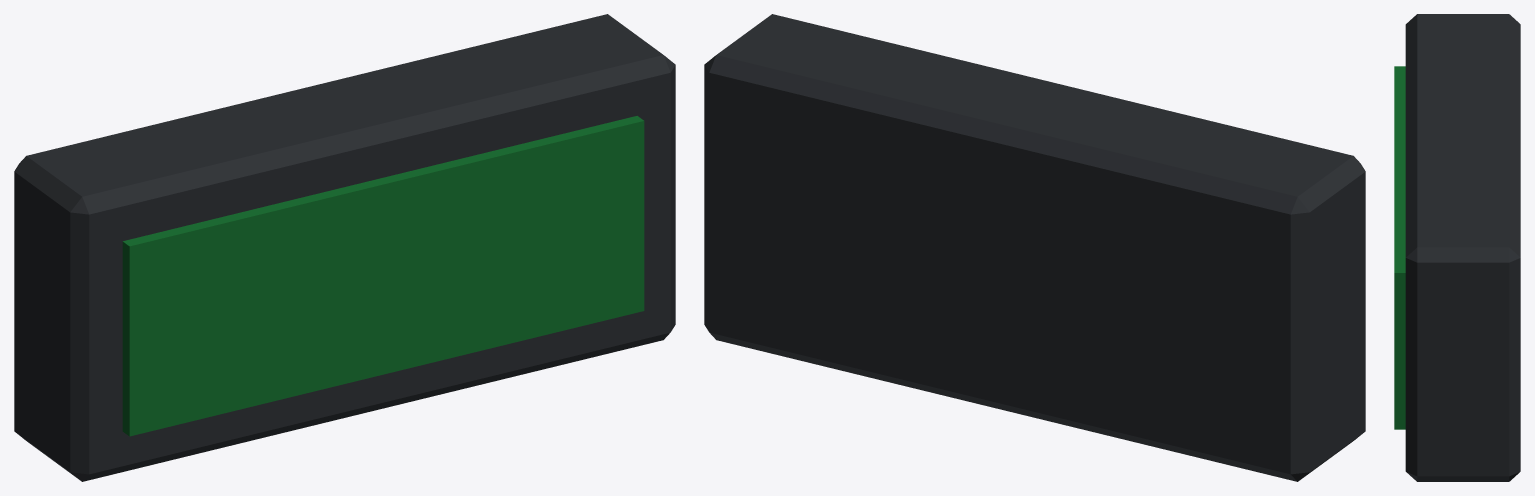
The model's file is digital_display.glb.
The picture shows the model from 3 angles, left to right: view 1: azimuth 30°, elevation 25°; view 2: azimuth 150°, elevation 25°; view 3: azimuth 270°, elevation 25°; orthographic projection. The views are drawn at different scales.
Visible parts, largest first — view 1: Display_Static, Screen; view 2: Display_Static; view 3: Display_Static, Screen.
Boxes of the visible parts, box(x1,y1,x2,y2) form: Display_Static: box(14, 14, 675, 481); Screen: box(122, 116, 644, 436); Display_Static: box(704, 14, 1365, 481); Display_Static: box(1405, 14, 1520, 481); Screen: box(1394, 66, 1405, 429).
Size of the model in its own units: 0.2 by 0.09 by 0.044.
